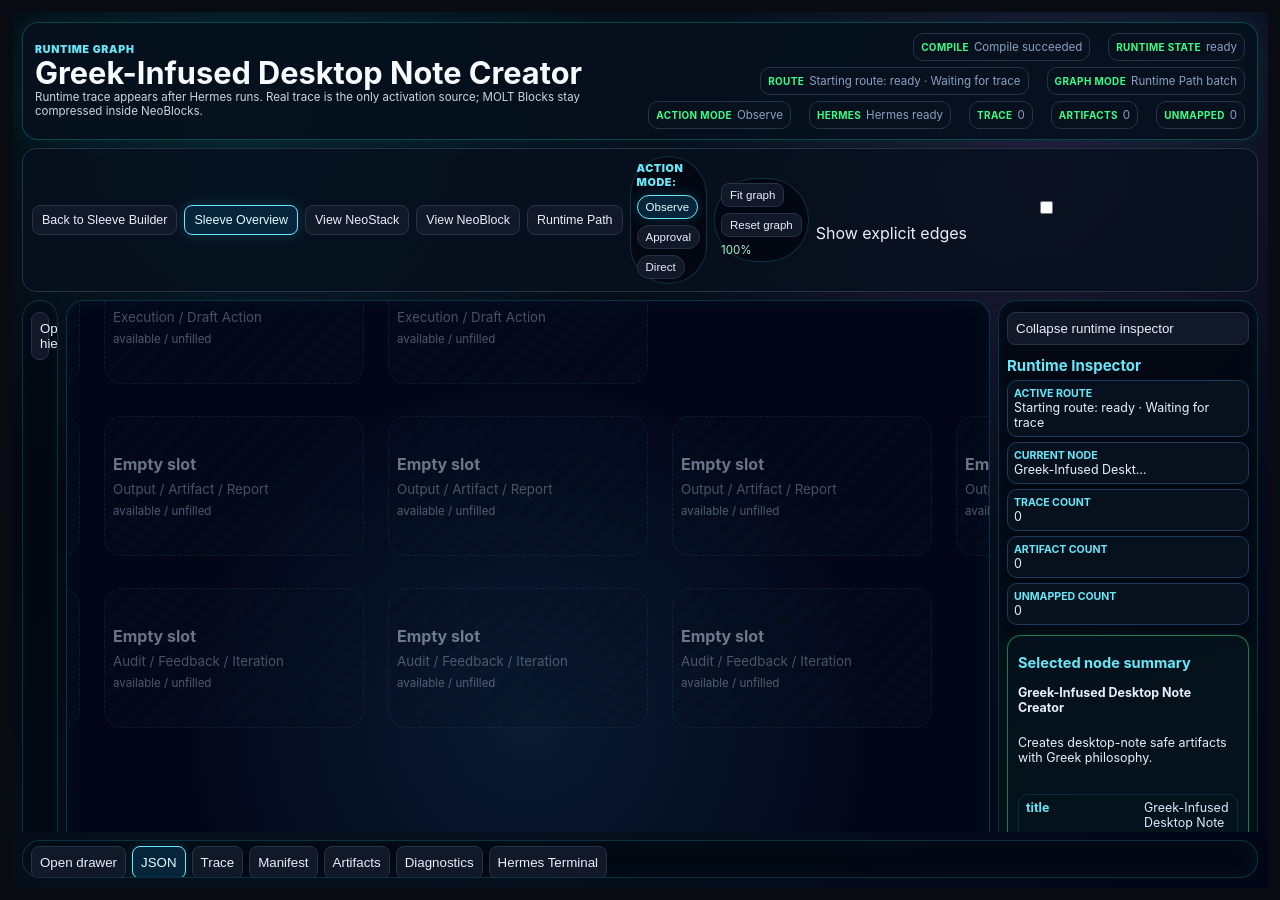
Test: RuntimeGeometryObserver › Hermes Terminal renders split left transcript and right Hermes Response pane with no response placeholder
Click the button "Hermes Terminal" at x=548, y=862, box [489,846,607,879]
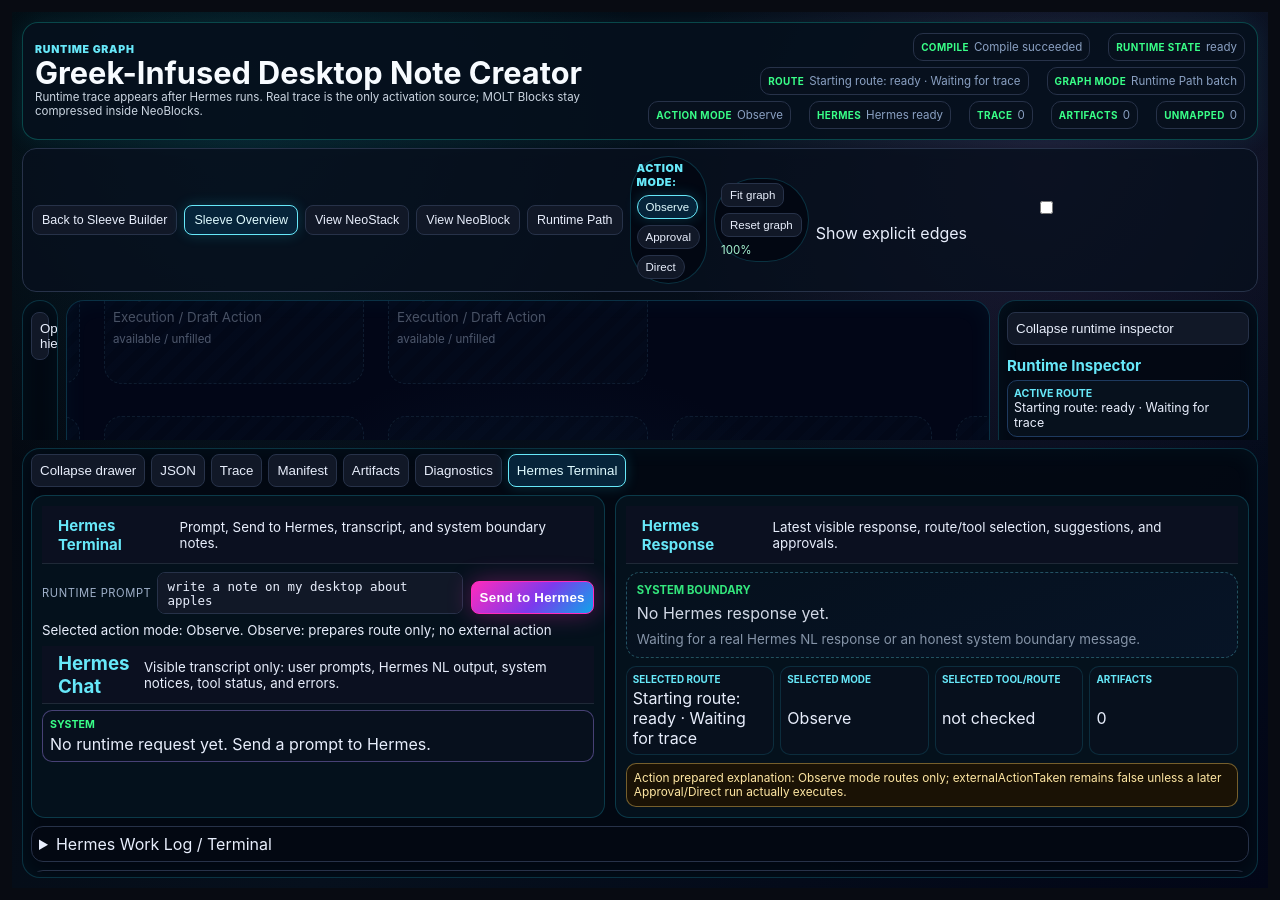
Check: the element named "Hermes transcript and prompt" is shown, box [31,495,605,818]
Check: the element labelled "Hermes Response" is shown, box [615,495,1249,818]
Check: the text "No Hermes response yet." is shown, box [637,603,829,623]
